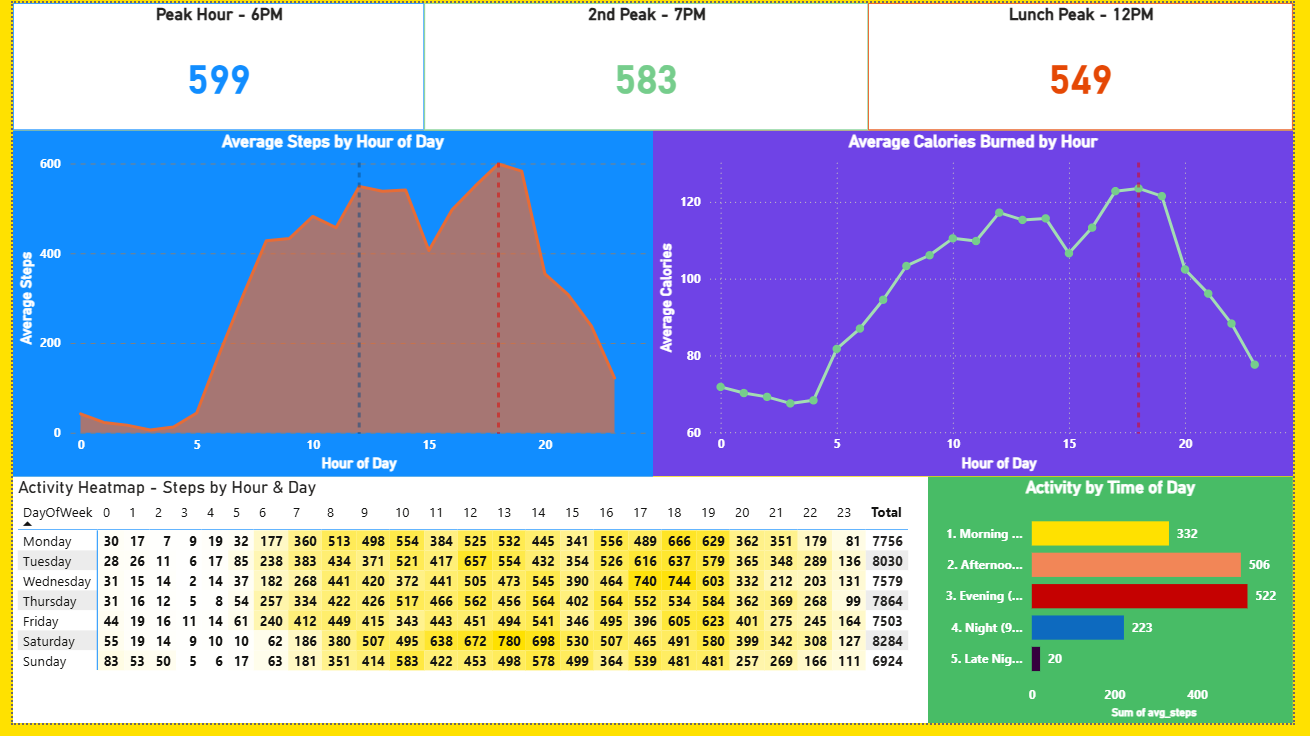

Layout of this report page (visuals, bound fields, positions):
{"tool":"powerbi","page":{"name":"Hourly Patterns","canvas":[1280,720],"ordinal":2},"visuals":[{"type":"areaChart","title":"Average Steps by Hour of Day","fields":{"Category":["steps_by_hour_of_day.HourOfDay"],"Y":["Sum(steps_by_hour_of_day.avg_steps)"]},"box":[0,127.5,640,346.2],"z":0},{"type":"lineChart","title":"Average Calories Burned by Hour","fields":{"Category":["calories_by_hour_of_day.HourOfDay"],"Y":["Sum(calories_by_hour_of_day.avg_calories)"]},"box":[640.1,127.5,640.1,345.7],"z":1000},{"type":"pivotTable","title":"Activity Heatmap - Steps by Hour & Day","fields":{"Rows":["step_hour_day_week_heatmap.DayOfWeek"],"Columns":["step_hour_day_week_heatmap.HourOfDay"],"Values":["Sum(step_hour_day_week_heatmap.avg_steps)"]},"box":[0,473.8,915,246.2],"z":2000},{"type":"clusteredBarChart","title":"Activity by Time of Day","fields":{"Category":["activity_by_time_period_of_day.time_period"],"Y":["Sum(activity_by_time_period_of_day.avg_steps)"]},"box":[915.5,473.2,364.8,246.7],"z":3000},{"type":"card","title":"Peak Hour - 6PM","fields":{"Values":["Max(peak_activity_hours.avg_steps)"]},"box":[0,0,411.2,127.5],"z":4000},{"type":"card","title":"2nd Peak - 7PM","fields":{"Values":["Max(peak_activity_hours.avg_steps)"]},"box":[411.2,0,443.8,127.5],"z":5000},{"type":"card","title":"Lunch Peak - 12PM","fields":{"Values":["Max(peak_activity_hours.avg_steps)"]},"box":[855,0,425,127.5],"z":6000}]}

Visuals, with their boxes in screenshot pixels (x1, y1, x2, y2), scaled from the page's 1280x720 canvas onto the 1310x736 screenshot:
"Average Steps by Hour of Day" areaChart: (x1=0, y1=130, x2=655, y2=484)
"Average Calories Burned by Hour" lineChart: (x1=655, y1=130, x2=1309, y2=484)
"Activity Heatmap - Steps by Hour & Day" pivotTable: (x1=0, y1=484, x2=936, y2=735)
"Activity by Time of Day" clusteredBarChart: (x1=937, y1=484, x2=1309, y2=735)
"Peak Hour - 6PM" card: (x1=0, y1=0, x2=421, y2=130)
"2nd Peak - 7PM" card: (x1=421, y1=0, x2=875, y2=130)
"Lunch Peak - 12PM" card: (x1=875, y1=0, x2=1309, y2=130)
